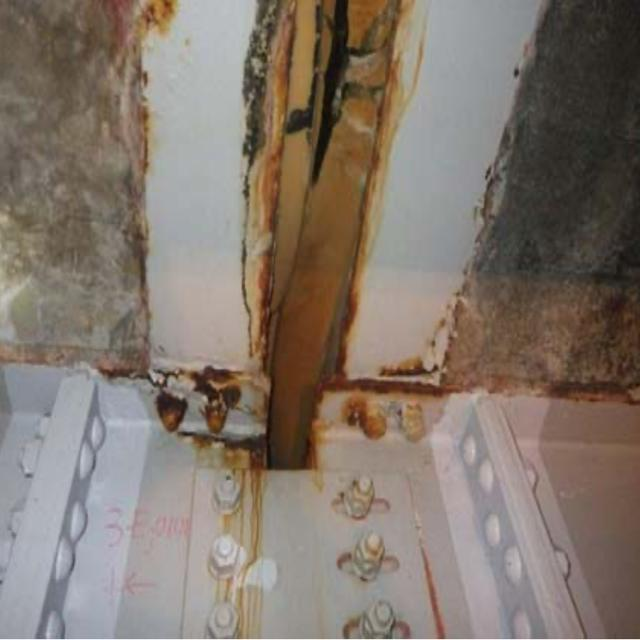corrosion: (106, 3, 506, 494)
